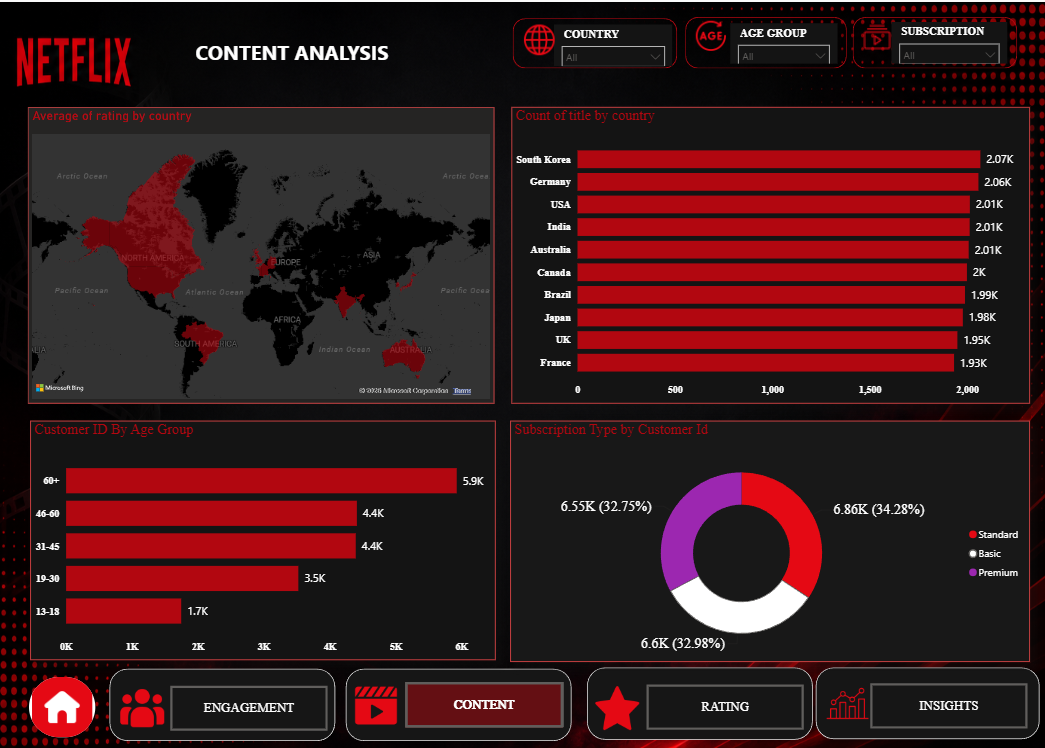

The dashboard page shown, as its layout file describes it:
{"tool":"powerbi","page":{"name":"Page 2","canvas":[1390,990],"ordinal":2},"visuals":[{"type":"shape","box":[451.4,875.3,317.5,113.8],"z":0},{"type":"shape","box":[137.6,876.2,317.5,113.8],"z":1000},{"type":"textbox","box":[26.3,43.3,724.6,73.9],"z":2000},{"type":"image","box":[39.8,895.8,87.9,79.6],"z":3000},{"type":"actionButton","title":"ENgagement off","box":[226.9,907,209,59.7],"z":4000},{"type":"actionButton","title":"content on","box":[539.9,903.2,209.2,60.6],"z":6000},{"type":"actionButton","title":"content off","box":[539.7,902.6,210.6,60.2],"z":7000},{"type":"image","box":[161.5,897.4,58.7,78.9],"z":8000},{"type":"image","box":[471.6,893.7,58.7,78.9],"z":9000},{"type":"shape","box":[771.2,874.8,317.5,113.8],"z":10000},{"type":"actionButton","title":"Rating off","box":[859.4,906.4,208.7,60.2],"z":12000},{"type":"image","box":[790.9,897.4,58.7,78.9],"z":13000},{"type":"shape","box":[1075.1,874.3,314.9,113],"z":14000},{"type":"actionButton","title":"INSIGHTS off","box":[1156.5,904.5,208.7,60.2],"z":16000},{"type":"image","box":[1096.6,891,59.3,79.7],"z":17000},{"type":"barChart","fields":{"Y":["CountNonNull(netflix_dataset_20000.title)"],"Category":["netflix_dataset_20000.country"]},"box":[680.2,138.6,687.6,393.7],"z":18000},{"type":"filledMap","fields":{"Category":["netflix_dataset_20000.country"]},"box":[38.8,138.6,619.2,393.7],"z":19000},{"type":"clusteredBarChart","title":"Customer ID By Age Group","fields":{"Category":["netflix_customer_ratings_20000.Age Group"],"Y":["CountNonNull(netflix_customer_ratings_20000.customer_id)"]},"box":[40.7,556.4,617.4,317.9],"z":20000},{"type":"donutChart","title":"Subscription Type by Customer Id","fields":{"Category":["netflix_customer_ratings_20000.subscription_type"],"Y":["CountNonNull(netflix_customer_ratings_20000.customer_id)"]},"box":[678.4,556.4,689.5,319.8],"z":21000},{"type":"shape","box":[682.2,21.7,218.1,66.5],"z":22000},{"type":"slicer","fields":{"Values":["netflix_customer_ratings_20000.country"]},"box":[735.8,29.1,157.1,55.5],"z":23000},{"type":"image","box":[695.1,29.1,44.4,40.7],"z":24000},{"type":"shape","box":[911.3,20.3,214.4,68.4],"z":25000},{"type":"slicer","fields":{"Values":["netflix_customer_ratings_20000.Age Group"]},"box":[970.4,27.7,142.3,53.6],"z":26000},{"type":"shape","box":[1133.4,20.4,218.1,68.4],"z":27000},{"type":"image","box":[921.5,25.5,44.5,40.3],"z":28000},{"type":"slicer","fields":{"Values":["netflix_customer_ratings_20000.subscription_type"]},"box":[1184.8,25.9,153.4,55.5],"z":29000},{"type":"image","box":[1142.3,26.1,44.5,40.3],"z":30000}]}

Visuals, with their boxes in screenshot pixels (x1, y1, x2, y2), scaled from the page's 1390x990 canvas onto the 1045x748 screenshot:
shape: 339:661:578:747
shape: 103:662:342:747
textbox: 20:33:565:89
image: 30:677:96:737
"ENgagement off" actionButton: 171:685:328:730
"content on" actionButton: 406:682:563:728
"content off" actionButton: 406:682:564:727
image: 121:678:166:738
image: 355:675:399:735
shape: 580:661:818:747
"Rating off" actionButton: 646:685:803:730
image: 595:678:639:738
shape: 808:661:1044:746
"INSIGHTS off" actionButton: 869:683:1026:729
image: 824:673:869:733
barChart - CountNonNull(netflix_dataset_20000.title) x netflix_dataset_20000.country: 511:105:1028:402
filledMap - netflix_dataset_20000.country: 29:105:495:402
"Customer ID By Age Group" clusteredBarChart: 31:420:495:661
"Subscription Type by Customer Id" donutChart: 510:420:1028:662
shape: 513:16:677:67
slicer - netflix_customer_ratings_20000.country: 553:22:671:64
image: 523:22:556:53
shape: 685:15:846:67
slicer - netflix_customer_ratings_20000.Age Group: 730:21:837:61
shape: 852:15:1016:67
image: 693:19:726:50
slicer - netflix_customer_ratings_20000.subscription_type: 891:20:1006:62
image: 859:20:892:50
